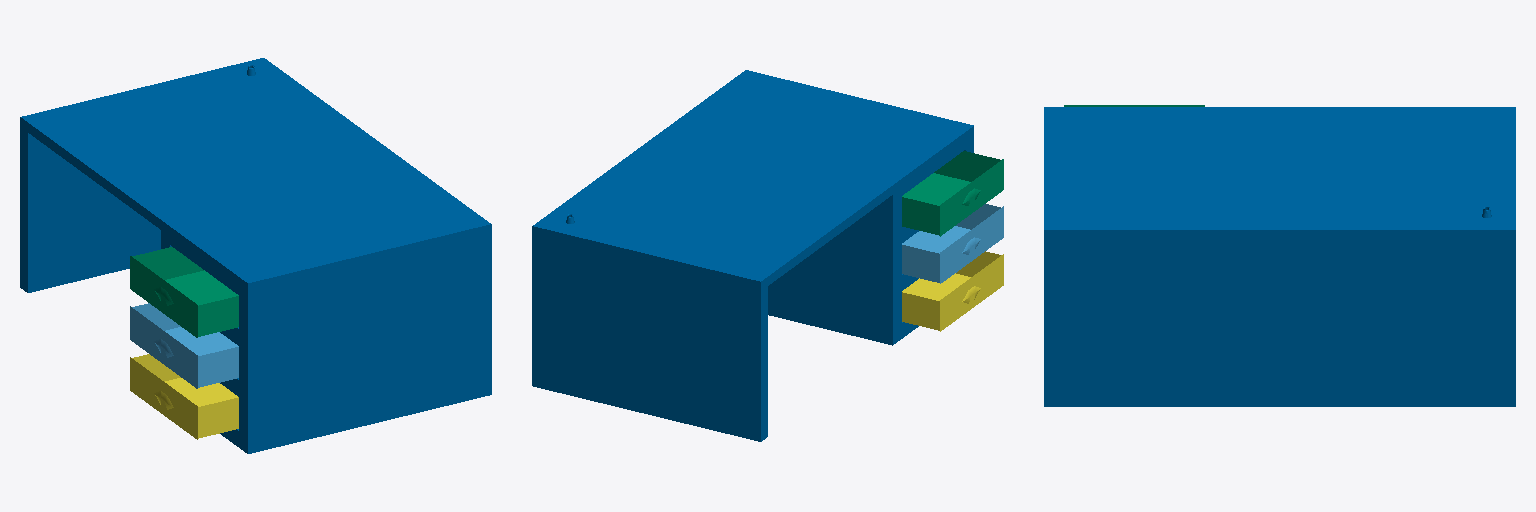
The robot description file, URDF, robot "partnet_2583fa4932ddfe741ec48bc3c478566d":
<?xml version="1.0" ?>
<robot name="partnet_2583fa4932ddfe741ec48bc3c478566d">
	<link name="base"/>
	<link name="link_0">
		<visual name="drawer_front-39">
			<origin xyz="0 0 0"/>
			<geometry>
				<mesh filename="textured_objs/new-18.obj"/>
			</geometry>
		</visual>
		<visual name="drawer_side-40">
			<origin xyz="0 0 0"/>
			<geometry>
				<mesh filename="textured_objs/new-21.obj"/>
			</geometry>
		</visual>
		<visual name="drawer_side-41">
			<origin xyz="0 0 0"/>
			<geometry>
				<mesh filename="textured_objs/new-19.obj"/>
			</geometry>
		</visual>
		<visual name="drawer_back-42">
			<origin xyz="0 0 0"/>
			<geometry>
				<mesh filename="textured_objs/new-20.obj"/>
			</geometry>
		</visual>
		<visual name="drawer_bottom-43">
			<origin xyz="0 0 0"/>
			<geometry>
				<mesh filename="textured_objs/new-22.obj"/>
			</geometry>
		</visual>
		<visual name="handle-27">
			<origin xyz="0 0 0"/>
			<geometry>
				<mesh filename="textured_objs/original-2.obj"/>
			</geometry>
		</visual>
		<collision>
			<origin xyz="0 0 0"/>
			<geometry>
				<mesh filename="textured_objs/new-18.obj"/>
			</geometry>
		</collision>
		<collision>
			<origin xyz="0 0 0"/>
			<geometry>
				<mesh filename="textured_objs/new-21.obj"/>
			</geometry>
		</collision>
		<collision>
			<origin xyz="0 0 0"/>
			<geometry>
				<mesh filename="textured_objs/new-19.obj"/>
			</geometry>
		</collision>
		<collision>
			<origin xyz="0 0 0"/>
			<geometry>
				<mesh filename="textured_objs/new-20.obj"/>
			</geometry>
		</collision>
		<collision>
			<origin xyz="0 0 0"/>
			<geometry>
				<mesh filename="textured_objs/new-22.obj"/>
			</geometry>
		</collision>
		<collision>
			<origin xyz="0 0 0"/>
			<geometry>
				<mesh filename="textured_objs/original-2.obj"/>
			</geometry>
		</collision>
	</link>
	<joint name="joint_0" type="prismatic">
		<origin xyz="0 0 0"/>
		<axis xyz="0 0 1"/>
		<child link="link_0"/>
		<parent link="link_3"/>
		<limit lower="-0.1399999999999999" upper="0.3679999999999999"/>
	</joint>
	<link name="link_1">
		<visual name="drawer_front-21">
			<origin xyz="0 0 0"/>
			<geometry>
				<mesh filename="textured_objs/new-8.obj"/>
			</geometry>
		</visual>
		<visual name="drawer_side-22">
			<origin xyz="0 0 0"/>
			<geometry>
				<mesh filename="textured_objs/new-9.obj"/>
			</geometry>
		</visual>
		<visual name="drawer_side-23">
			<origin xyz="0 0 0"/>
			<geometry>
				<mesh filename="textured_objs/new-11.obj"/>
			</geometry>
		</visual>
		<visual name="drawer_back-24">
			<origin xyz="0 0 0"/>
			<geometry>
				<mesh filename="textured_objs/new-10.obj"/>
			</geometry>
		</visual>
		<visual name="drawer_bottom-25">
			<origin xyz="0 0 0"/>
			<geometry>
				<mesh filename="textured_objs/new-12.obj"/>
			</geometry>
		</visual>
		<visual name="handle-20">
			<origin xyz="0 0 0"/>
			<geometry>
				<mesh filename="textured_objs/original-1.obj"/>
			</geometry>
		</visual>
		<collision>
			<origin xyz="0 0 0"/>
			<geometry>
				<mesh filename="textured_objs/new-8.obj"/>
			</geometry>
		</collision>
		<collision>
			<origin xyz="0 0 0"/>
			<geometry>
				<mesh filename="textured_objs/new-9.obj"/>
			</geometry>
		</collision>
		<collision>
			<origin xyz="0 0 0"/>
			<geometry>
				<mesh filename="textured_objs/new-11.obj"/>
			</geometry>
		</collision>
		<collision>
			<origin xyz="0 0 0"/>
			<geometry>
				<mesh filename="textured_objs/new-10.obj"/>
			</geometry>
		</collision>
		<collision>
			<origin xyz="0 0 0"/>
			<geometry>
				<mesh filename="textured_objs/new-12.obj"/>
			</geometry>
		</collision>
		<collision>
			<origin xyz="0 0 0"/>
			<geometry>
				<mesh filename="textured_objs/original-1.obj"/>
			</geometry>
		</collision>
	</link>
	<joint name="joint_1" type="prismatic">
		<origin xyz="0 0 0"/>
		<axis xyz="0 0 1"/>
		<child link="link_1"/>
		<parent link="link_3"/>
		<limit lower="-0.1399999999999999" upper="0.35199999999999987"/>
	</joint>
	<link name="link_2">
		<visual name="drawer_front-33">
			<origin xyz="0 0 0"/>
			<geometry>
				<mesh filename="textured_objs/new-13.obj"/>
			</geometry>
		</visual>
		<visual name="drawer_side-34">
			<origin xyz="0 0 0"/>
			<geometry>
				<mesh filename="textured_objs/new-14.obj"/>
			</geometry>
		</visual>
		<visual name="drawer_side-35">
			<origin xyz="0 0 0"/>
			<geometry>
				<mesh filename="textured_objs/new-16.obj"/>
			</geometry>
		</visual>
		<visual name="drawer_back-36">
			<origin xyz="0 0 0"/>
			<geometry>
				<mesh filename="textured_objs/new-15.obj"/>
			</geometry>
		</visual>
		<visual name="drawer_bottom-37">
			<origin xyz="0 0 0"/>
			<geometry>
				<mesh filename="textured_objs/new-17.obj"/>
			</geometry>
		</visual>
		<visual name="handle-32">
			<origin xyz="0 0 0"/>
			<geometry>
				<mesh filename="textured_objs/original-3.obj"/>
			</geometry>
		</visual>
		<collision>
			<origin xyz="0 0 0"/>
			<geometry>
				<mesh filename="textured_objs/new-13.obj"/>
			</geometry>
		</collision>
		<collision>
			<origin xyz="0 0 0"/>
			<geometry>
				<mesh filename="textured_objs/new-14.obj"/>
			</geometry>
		</collision>
		<collision>
			<origin xyz="0 0 0"/>
			<geometry>
				<mesh filename="textured_objs/new-16.obj"/>
			</geometry>
		</collision>
		<collision>
			<origin xyz="0 0 0"/>
			<geometry>
				<mesh filename="textured_objs/new-15.obj"/>
			</geometry>
		</collision>
		<collision>
			<origin xyz="0 0 0"/>
			<geometry>
				<mesh filename="textured_objs/new-17.obj"/>
			</geometry>
		</collision>
		<collision>
			<origin xyz="0 0 0"/>
			<geometry>
				<mesh filename="textured_objs/original-3.obj"/>
			</geometry>
		</collision>
	</link>
	<joint name="joint_2" type="prismatic">
		<origin xyz="0 0 0"/>
		<axis xyz="0 0 1"/>
		<child link="link_2"/>
		<parent link="link_3"/>
		<limit lower="-0.1399999999999999" upper="0.34399999999999986"/>
	</joint>
	<link name="link_3">
		<visual name="board-45">
			<origin xyz="0 0 0"/>
			<geometry>
				<mesh filename="textured_objs/new-6.obj"/>
			</geometry>
		</visual>
		<visual name="other_leaf-47">
			<origin xyz="0 0 0"/>
			<geometry>
				<mesh filename="textured_objs/original-9.obj"/>
			</geometry>
		</visual>
		<visual name="back_panel-8">
			<origin xyz="0 0 0"/>
			<geometry>
				<mesh filename="textured_objs/new-7.obj"/>
			</geometry>
		</visual>
		<visual name="vertical_side_panel-9">
			<origin xyz="0 0 0"/>
			<geometry>
				<mesh filename="textured_objs/new-3.obj"/>
			</geometry>
		</visual>
		<visual name="vertical_side_panel-10">
			<origin xyz="0 0 0"/>
			<geometry>
				<mesh filename="textured_objs/new-2.obj"/>
			</geometry>
		</visual>
		<visual name="vertical_side_panel-11">
			<origin xyz="0 0 0"/>
			<geometry>
				<mesh filename="textured_objs/new-1.obj"/>
			</geometry>
		</visual>
		<visual name="bottom_panel-13">
			<origin xyz="0 0 0"/>
			<geometry>
				<mesh filename="textured_objs/new-0.obj"/>
			</geometry>
		</visual>
		<visual name="shelf-17">
			<origin xyz="0 0 0"/>
			<geometry>
				<mesh filename="textured_objs/new-4.obj"/>
			</geometry>
		</visual>
		<visual name="shelf-18">
			<origin xyz="0 0 0"/>
			<geometry>
				<mesh filename="textured_objs/new-5.obj"/>
			</geometry>
		</visual>
		<collision>
			<origin xyz="0 0 0"/>
			<geometry>
				<mesh filename="textured_objs/new-6.obj"/>
			</geometry>
		</collision>
		<collision>
			<origin xyz="0 0 0"/>
			<geometry>
				<mesh filename="textured_objs/original-9.obj"/>
			</geometry>
		</collision>
		<collision>
			<origin xyz="0 0 0"/>
			<geometry>
				<mesh filename="textured_objs/new-7.obj"/>
			</geometry>
		</collision>
		<collision>
			<origin xyz="0 0 0"/>
			<geometry>
				<mesh filename="textured_objs/new-3.obj"/>
			</geometry>
		</collision>
		<collision>
			<origin xyz="0 0 0"/>
			<geometry>
				<mesh filename="textured_objs/new-2.obj"/>
			</geometry>
		</collision>
		<collision>
			<origin xyz="0 0 0"/>
			<geometry>
				<mesh filename="textured_objs/new-1.obj"/>
			</geometry>
		</collision>
		<collision>
			<origin xyz="0 0 0"/>
			<geometry>
				<mesh filename="textured_objs/new-0.obj"/>
			</geometry>
		</collision>
		<collision>
			<origin xyz="0 0 0"/>
			<geometry>
				<mesh filename="textured_objs/new-4.obj"/>
			</geometry>
		</collision>
		<collision>
			<origin xyz="0 0 0"/>
			<geometry>
				<mesh filename="textured_objs/new-5.obj"/>
			</geometry>
		</collision>
	</link>
	<joint name="joint_3" type="fixed">
		<origin rpy="1.570796326794897 0 -1.570796326794897" xyz="0 0 0"/>
		<child link="link_3"/>
		<parent link="base"/>
	</joint>
</robot>

--- Facts derived from the render (not from the file) ---
The picture shows the robot from 3 angles, left to right: view 1: azimuth 30°, elevation 25°; view 2: azimuth 150°, elevation 25°; view 3: azimuth 270°, elevation 25°; orthographic projection.
Robot: partnet_2583fa4932ddfe741ec48bc3c478566d — 5 links, 4 joints (3 prismatic, 1 fixed); root link base; default pose: all joints at 0.
Links seen in each view (by area): view 1: link_3, link_1, link_0, link_2; view 2: link_3, link_1, link_0, link_2; view 3: link_3.
Link boxes in pixels (x1=…): link_3: x1=20, y1=58, x2=491, y2=453; link_1: x1=130, y1=247, x2=238, y2=337; link_0: x1=130, y1=303, x2=238, y2=388; link_2: x1=130, y1=354, x2=238, y2=439; link_3: x1=532, y1=70, x2=973, y2=441; link_1: x1=902, y1=151, x2=1003, y2=236; link_0: x1=902, y1=204, x2=1003, y2=283; link_2: x1=902, y1=251, x2=1003, y2=331; link_3: x1=1044, y1=107, x2=1515, y2=406.
Bounding box of the posed robot: 1.06 × 1.46 × 0.6334 m (x, y, z).
27 mesh visuals loaded from 27 distinct referenced files (27 OBJ).
